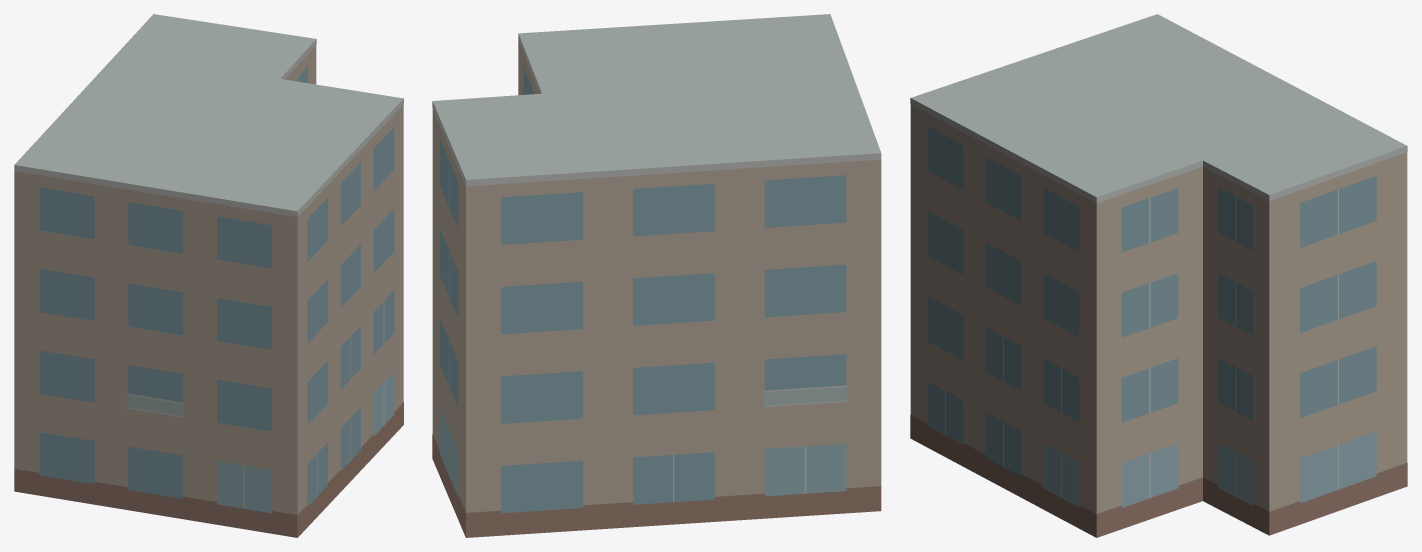
File: survey-upis-32814089.glb
3 views of the same model, side by side, from view 1: azimuth 30°, elevation 25°; view 2: azimuth 150°, elevation 25°; view 3: azimuth 270°, elevation 25° (orthographic). The views are drawn at different scales.
Visible parts, largest first — view 1: survey-upis-32814089.tmp; view 2: survey-upis-32814089.tmp; view 3: survey-upis-32814089.tmp.
Boxes of the visible parts, x1,y1,x2,y2 form: survey-upis-32814089.tmp: [14, 14, 403, 537]; survey-upis-32814089.tmp: [432, 14, 881, 537]; survey-upis-32814089.tmp: [910, 14, 1407, 537].
Bounding box in the file's own units: 15.6 × 13.5 × 17.86.
